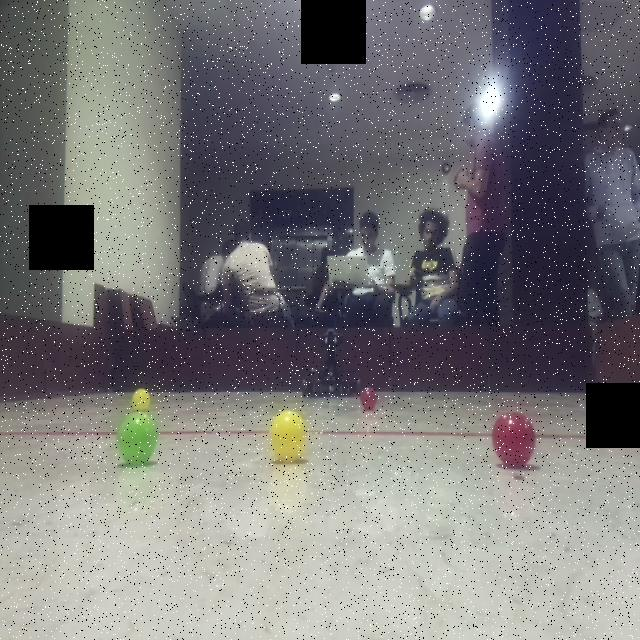ball: (114, 408, 162, 466), (489, 410, 538, 466), (266, 406, 309, 462), (128, 385, 153, 411), (358, 383, 380, 412)
